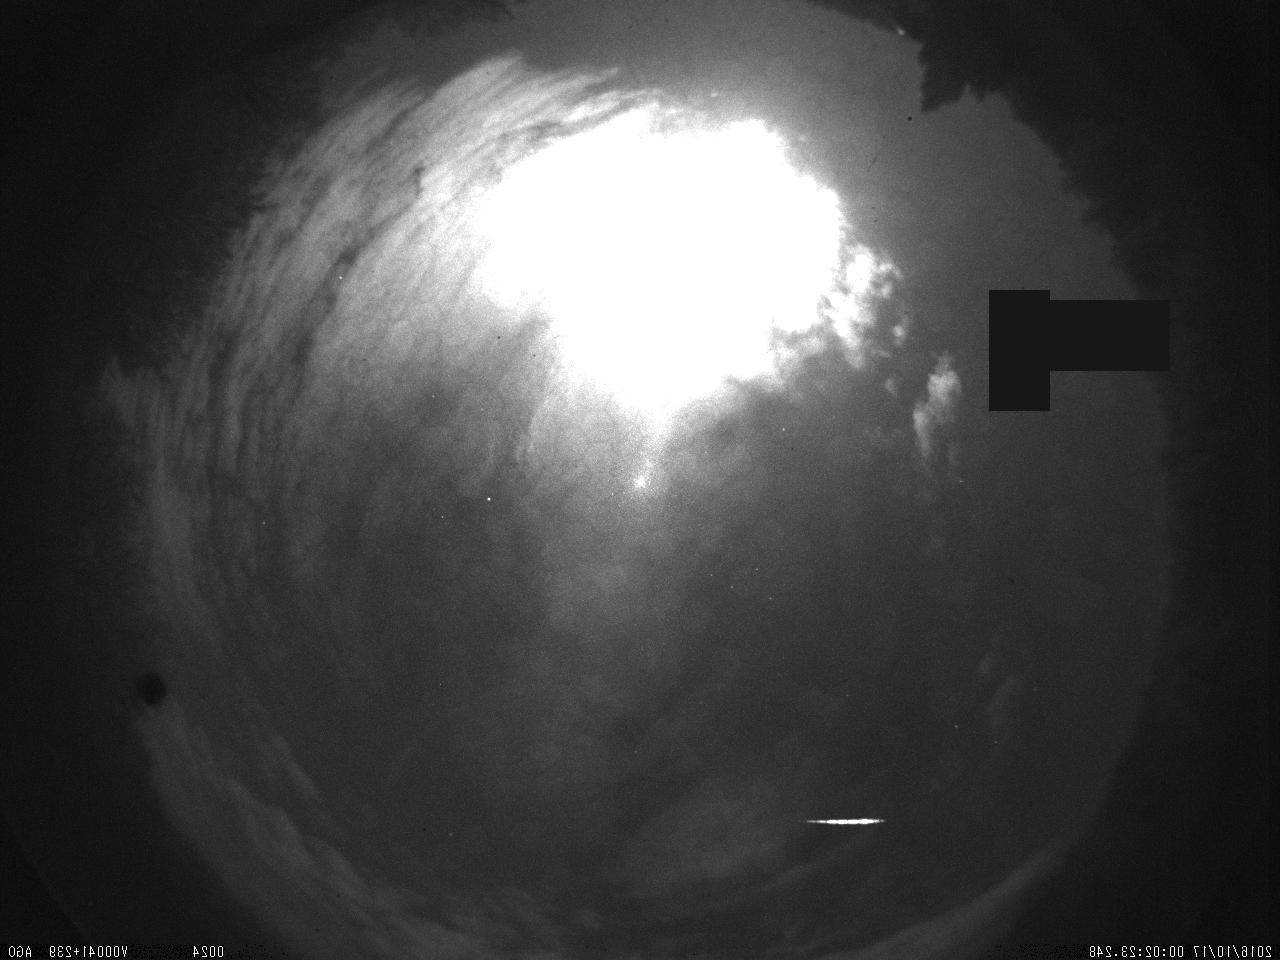meteor: (792, 792, 899, 845)
